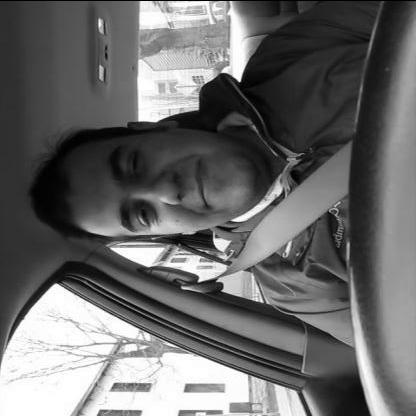seatbelt: (19, 100, 351, 296)
